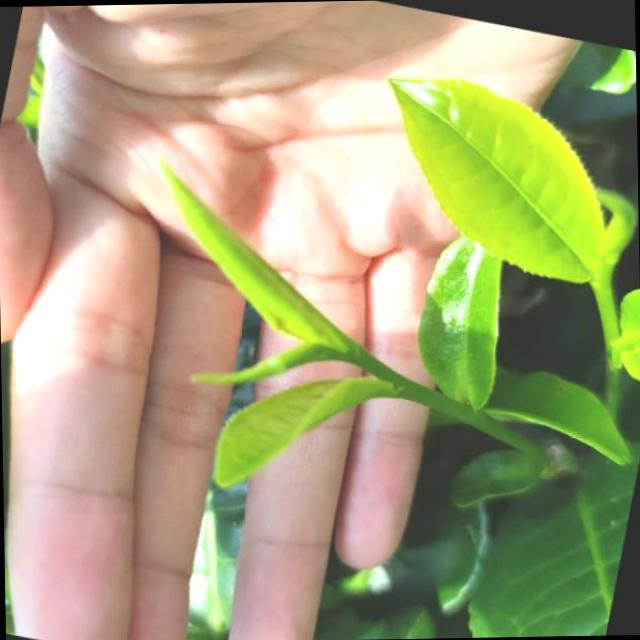Stem: (397, 379, 413, 396)
